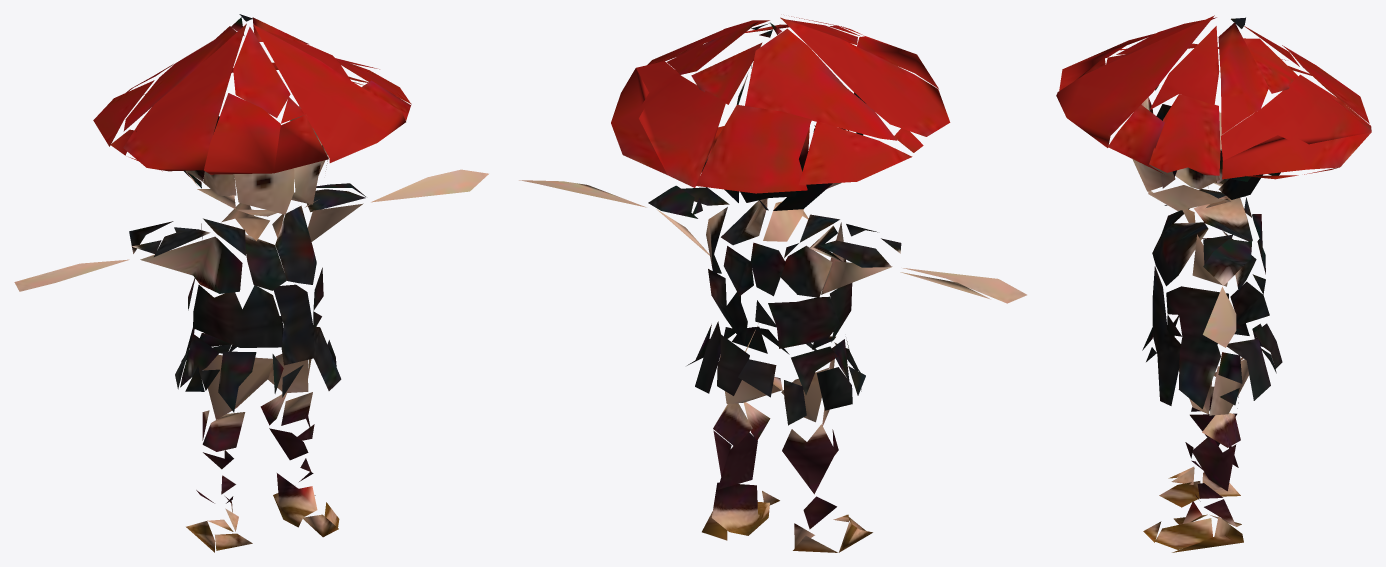
Rendered from fu_red.glb.
3 views of the same model, side by side, from view 1: azimuth 30°, elevation 25°; view 2: azimuth 150°, elevation 25°; view 3: azimuth 270°, elevation 25° (orthographic). The views are drawn at different scales.
Parts seen in each view (by area): view 1: fu_red; view 2: fu_red; view 3: fu_red.
Part boxes in pixels (x1,y1,x2,y2): fu_red: (14,14,488,552); fu_red: (519,16,1026,552); fu_red: (1056,15,1371,552).
Bounding box in the file's own units: 0.6933 × 0.6986 × 0.395.
Materials: 1 (1 with a texture image).
